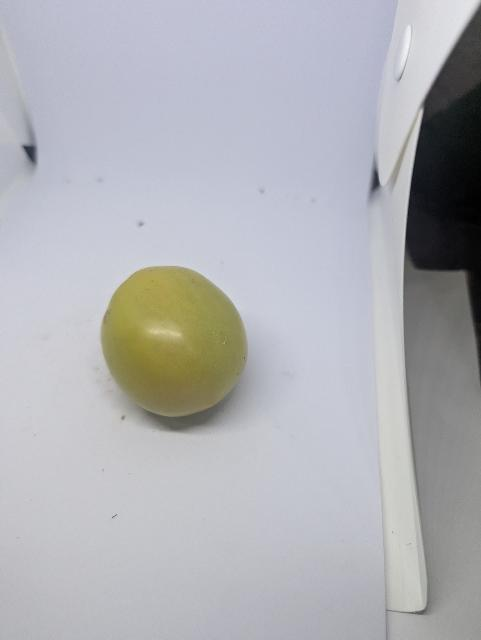breaker: (101, 266, 248, 417)
